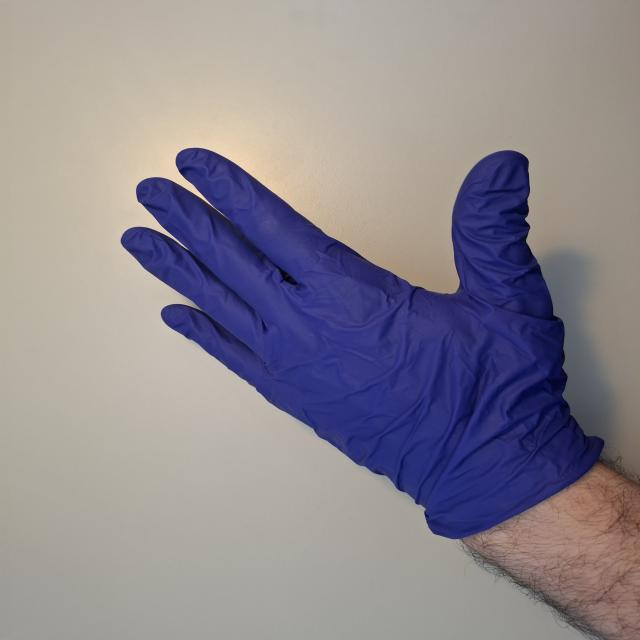glove_on: (119, 145, 592, 539)
